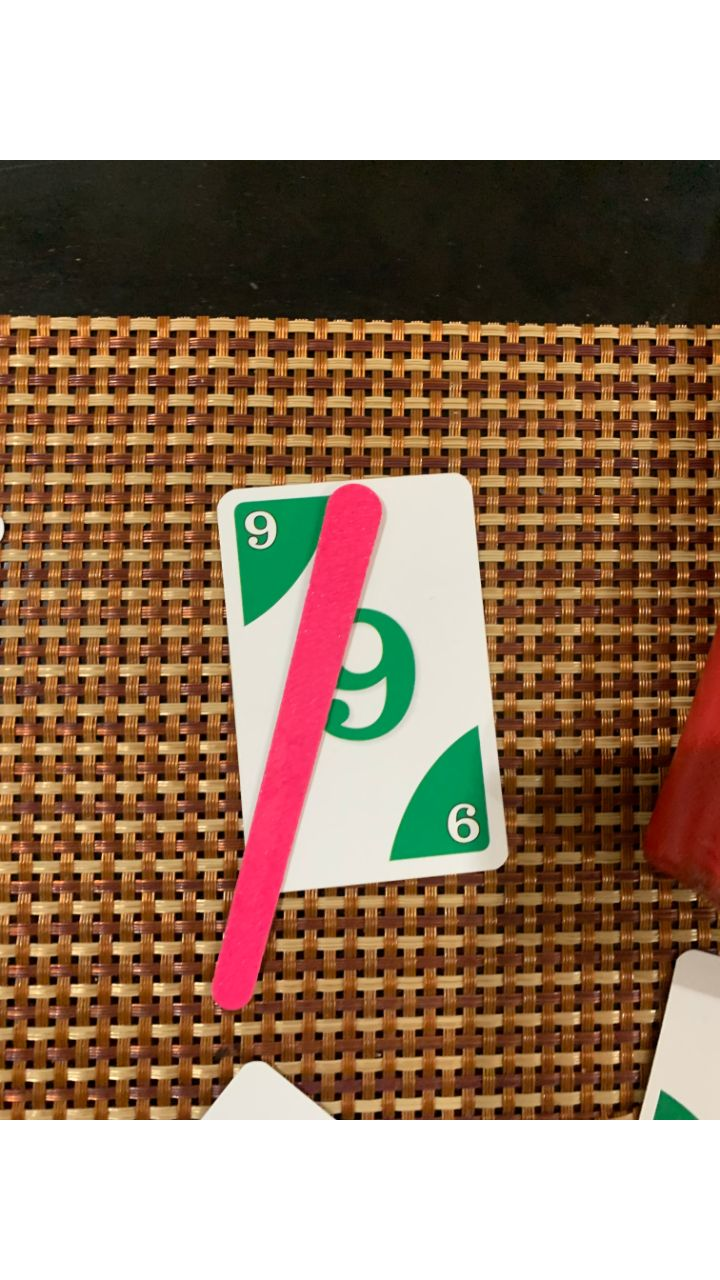nine: (213, 471, 515, 902)
